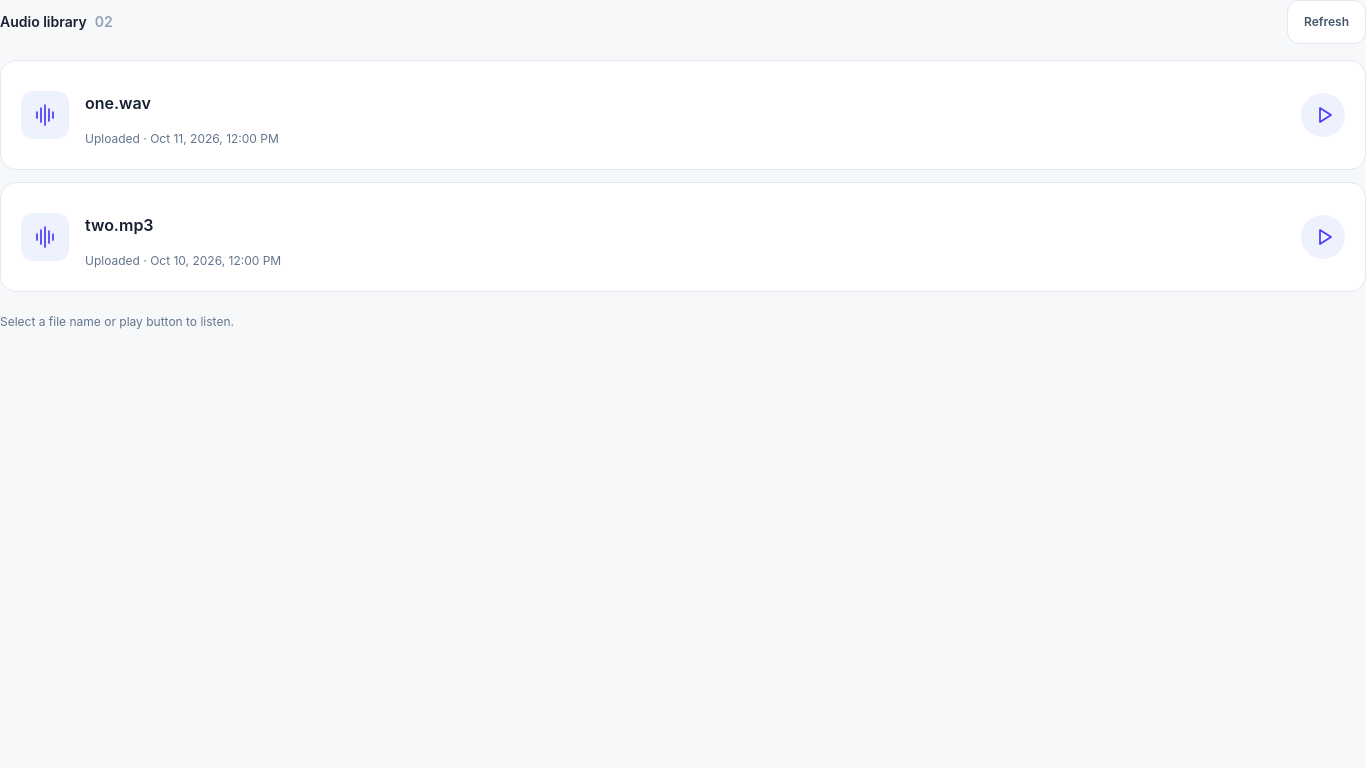
it: audio player › does not start a stale file when a second file is selected while loading
This screenshot has width=1366, height=768.
Click the button named "Play one.wav". click: coordinates (1323, 115)
box: [1301, 93, 1345, 137]
(page scrolled)
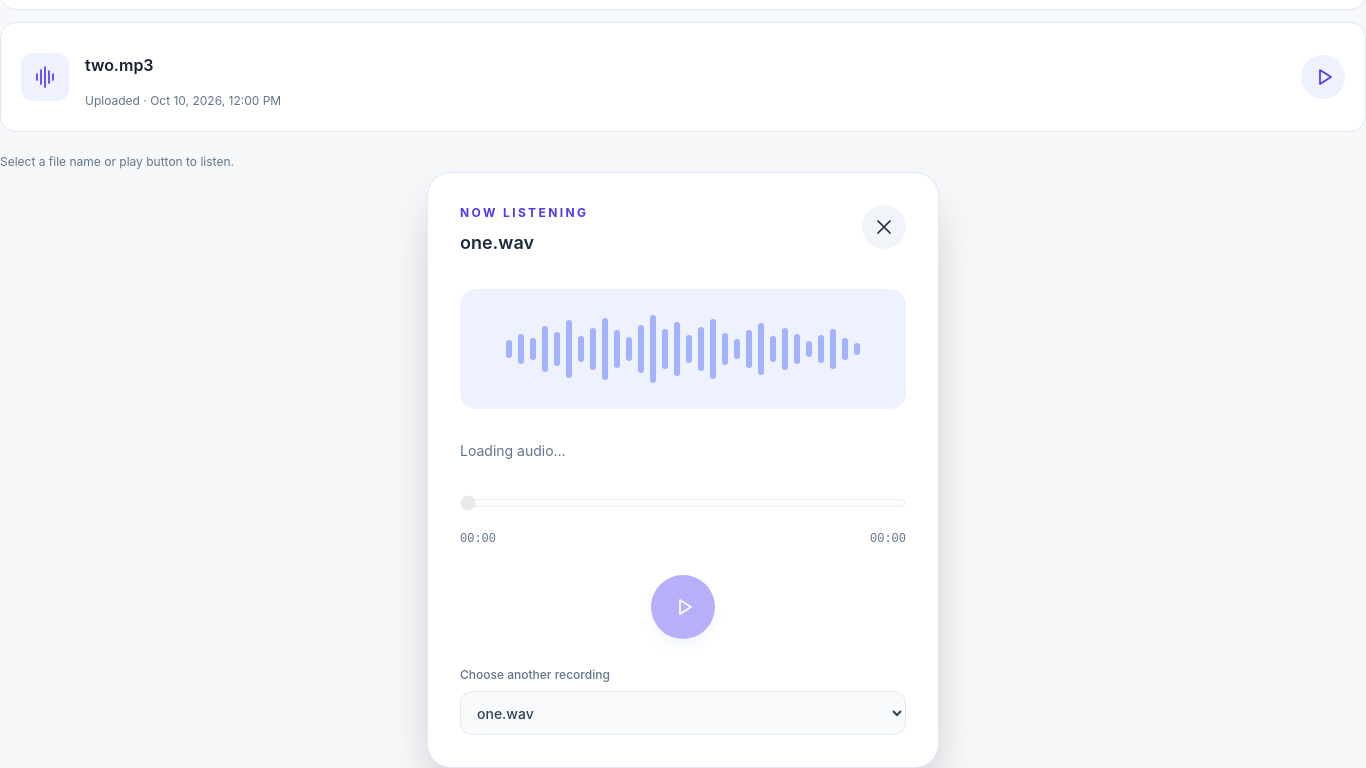
Select "two.mp3" in the dropdown. click: coordinates (683, 713)
box: [460, 691, 906, 735]
(page scrolled)
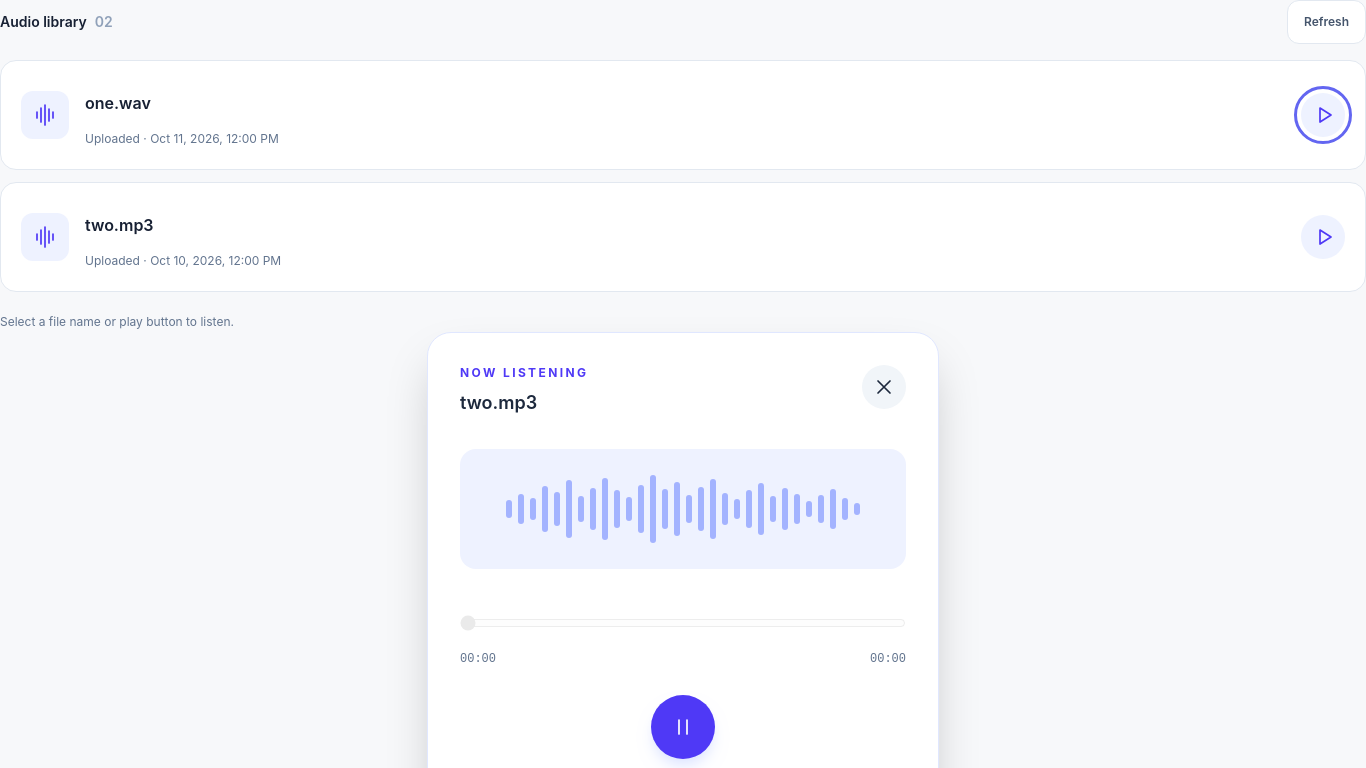
Check: the button named "Pause" is shown, box [651, 695, 715, 759]
